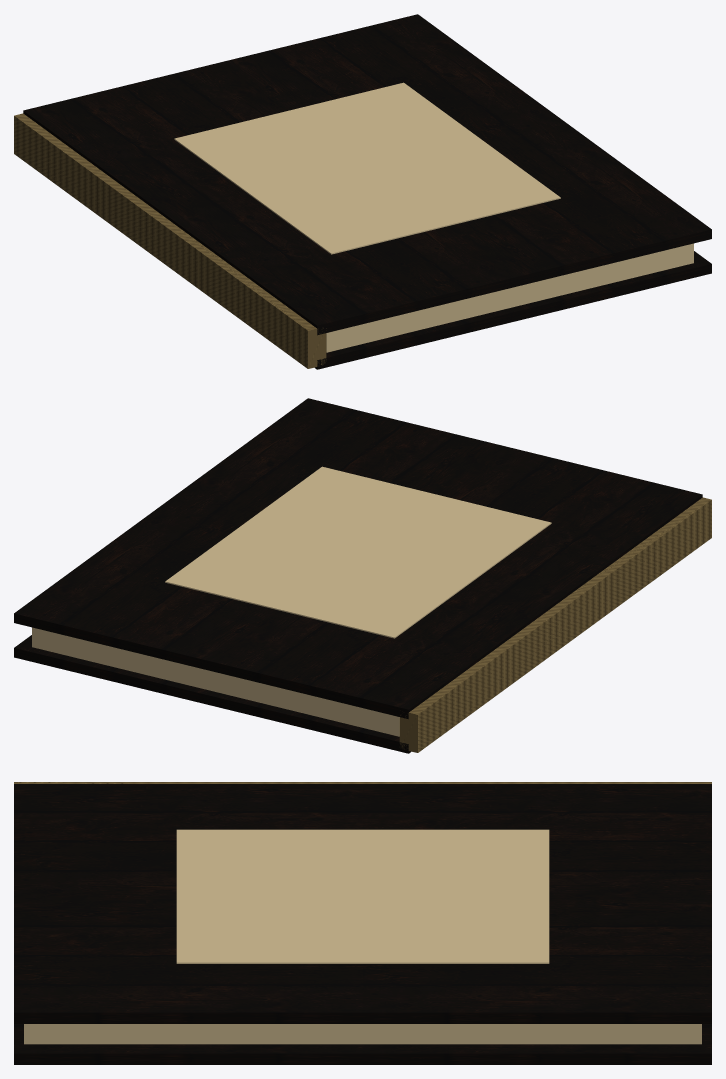
The picture shows the model from 3 angles, top to bottom: view 1: azimuth 30°, elevation 25°; view 2: azimuth 150°, elevation 25°; view 3: azimuth 270°, elevation 25°; orthographic projection. The views are drawn at different scales.
Visible parts, largest first — view 1: d-folder; view 2: d-folder; view 3: d-folder.
Boxes of the visible parts, box(x1,y1,x2,y2) form: d-folder: box(14, 14, 711, 369); d-folder: box(14, 398, 711, 753); d-folder: box(14, 782, 711, 1064).
Bounding box in the file's own units: 0.23 × 0.025 × 0.29.
3 materials, 2 textured.
